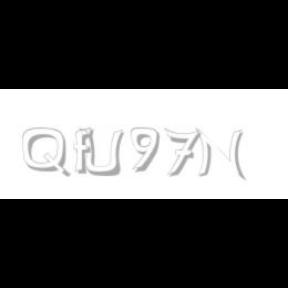7: (164, 128, 201, 178)
9: (130, 128, 160, 172)
N: (194, 128, 243, 180)
Q: (22, 128, 68, 178)
U: (78, 128, 124, 178)
f: (73, 128, 97, 174)
